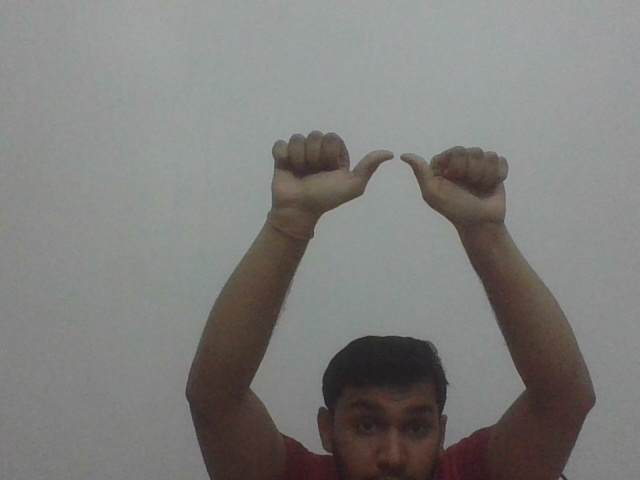A: (266, 130, 513, 222)
